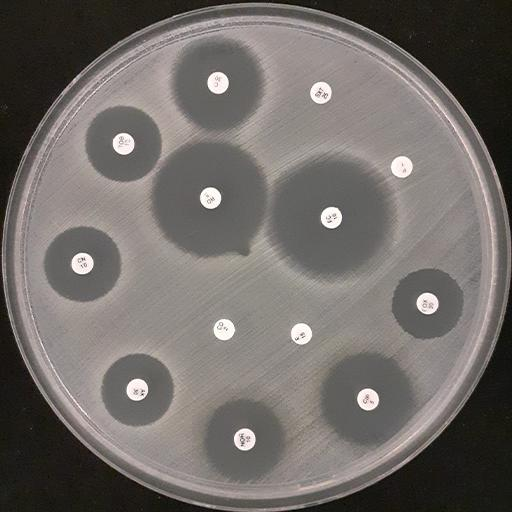disc: (357, 388, 379, 410), (126, 379, 148, 401), (290, 323, 312, 345), (112, 132, 134, 154), (206, 71, 228, 93), (234, 428, 255, 451), (390, 156, 413, 177), (200, 187, 221, 209), (71, 253, 93, 274), (321, 207, 342, 228), (417, 292, 438, 313), (310, 82, 331, 103), (213, 319, 234, 340)
